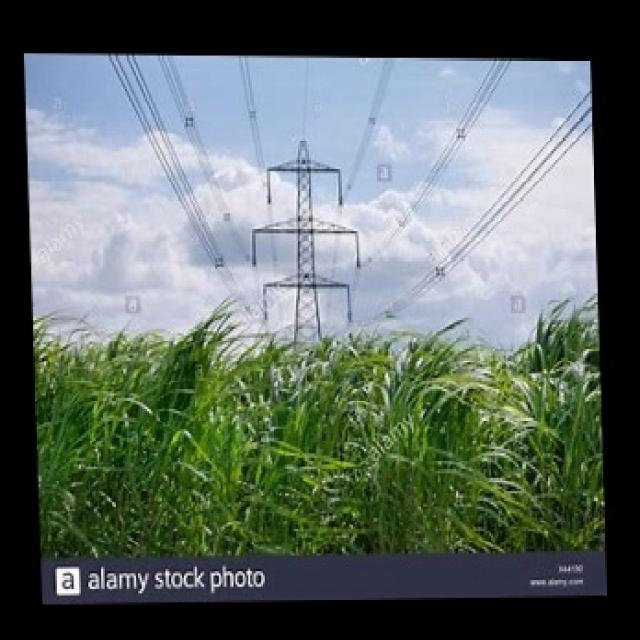utility poles: (240, 135, 375, 550)
